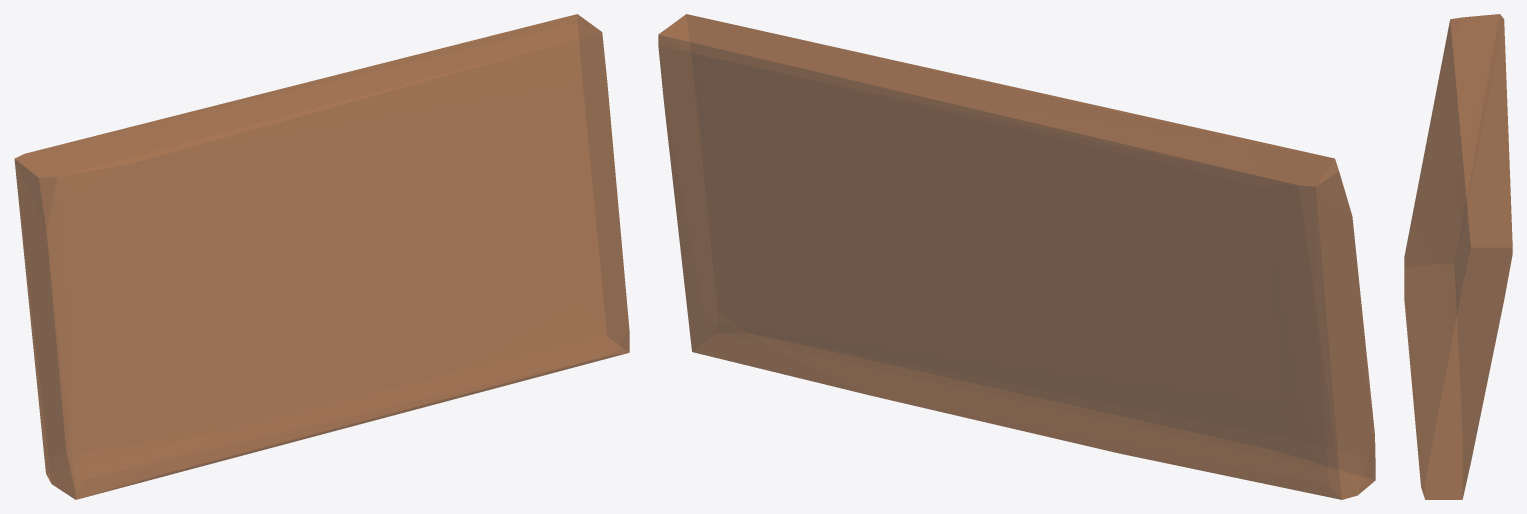
3 views of the same model, side by side, from view 1: azimuth 30°, elevation 25°; view 2: azimuth 150°, elevation 25°; view 3: azimuth 270°, elevation 25° (orthographic). The views are drawn at different scales.
Visible parts, largest first — view 1: Shape_IndexedFaceSet.005_Shape_IndexedFaceSet.5656; view 2: Shape_IndexedFaceSet.005_Shape_IndexedFaceSet.5656; view 3: Shape_IndexedFaceSet.005_Shape_IndexedFaceSet.5656.
Part boxes in pixels (bbox=[...]): Shape_IndexedFaceSet.005_Shape_IndexedFaceSet.5656: bbox=[14, 14, 629, 499]; Shape_IndexedFaceSet.005_Shape_IndexedFaceSet.5656: bbox=[658, 14, 1375, 499]; Shape_IndexedFaceSet.005_Shape_IndexedFaceSet.5656: bbox=[1404, 14, 1512, 499].
Size of the model in its own units: 0.5697 by 0.287 by 0.1114.
